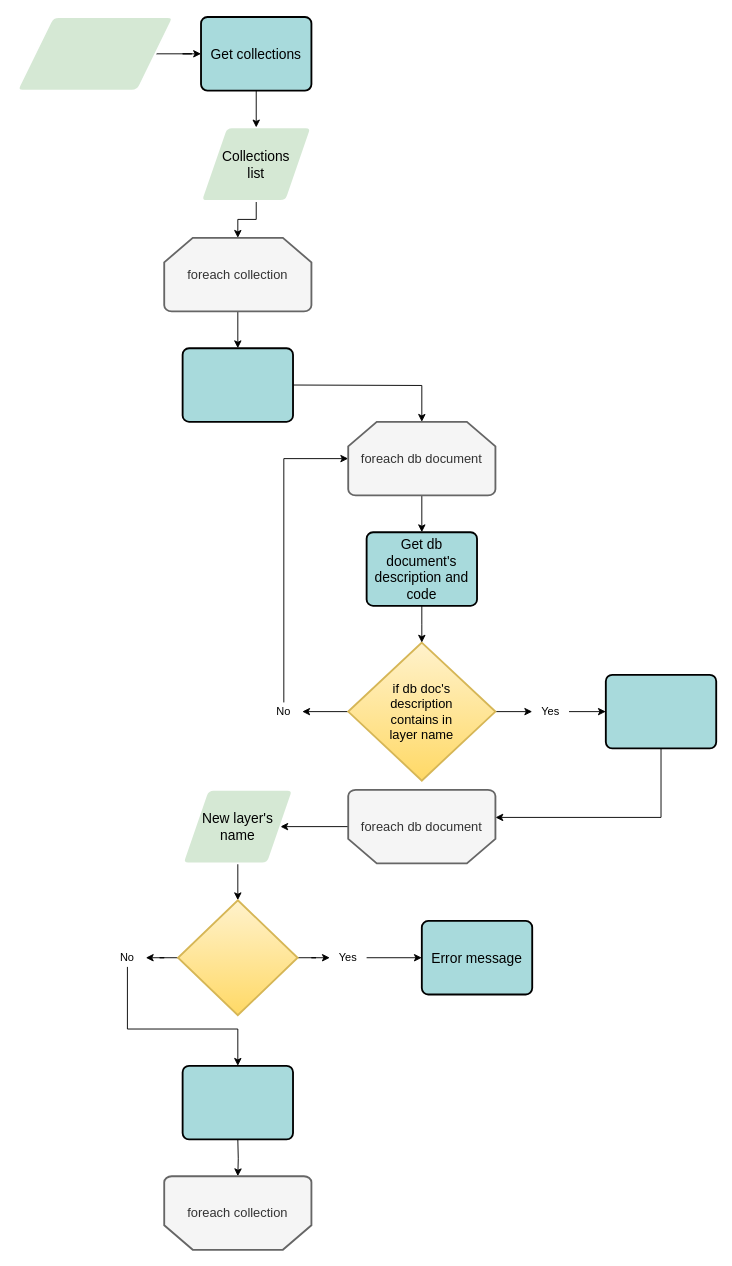
Image size: 732x1266. Some labels were removed from this diagram. Each missing label, with the centre of its shape:
"Add new field to NewLayerName" goes at point (660, 711).
"Current database" goes at point (95, 53).
"Get db documents list" goes at point (237, 384).
"Name exist?" goes at point (237, 957).
"Rename this layer" goes at point (237, 1102).
